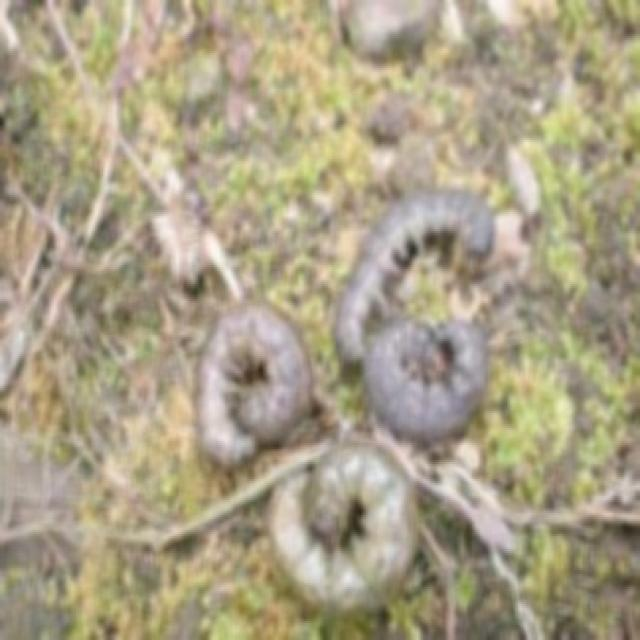black cutworm: (330, 167, 496, 390), (265, 436, 437, 610), (201, 303, 327, 475), (361, 307, 493, 445)
